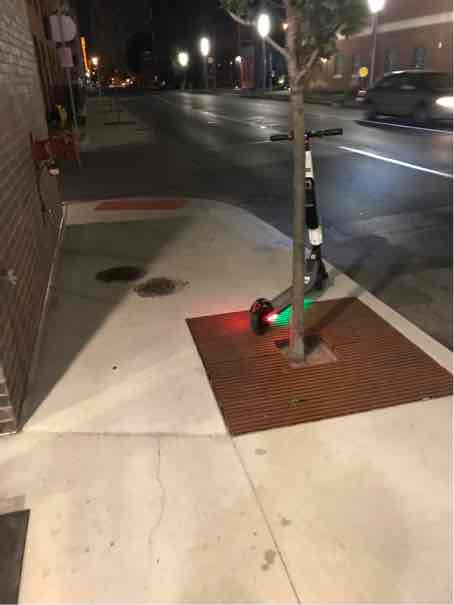scooter: (241, 131, 358, 358)
